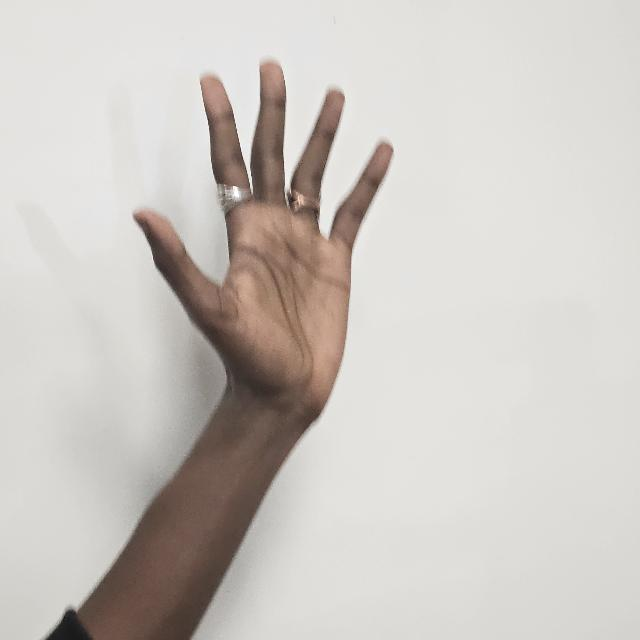X: (136, 62, 392, 424)
